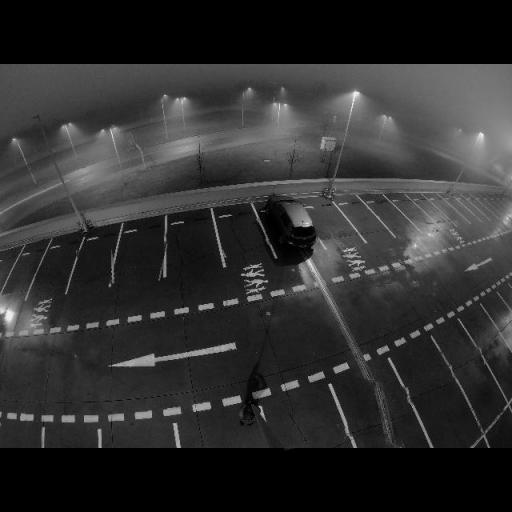busy: (266, 196, 321, 248), (246, 378, 274, 400)
free: (346, 380, 411, 444), (277, 404, 337, 448), (118, 234, 166, 280), (409, 366, 457, 410), (167, 227, 215, 269), (78, 245, 117, 288), (220, 220, 264, 256), (449, 344, 487, 382), (38, 252, 74, 292), (9, 258, 36, 290), (481, 332, 506, 360), (321, 214, 349, 238), (352, 208, 374, 226), (377, 205, 397, 219)
